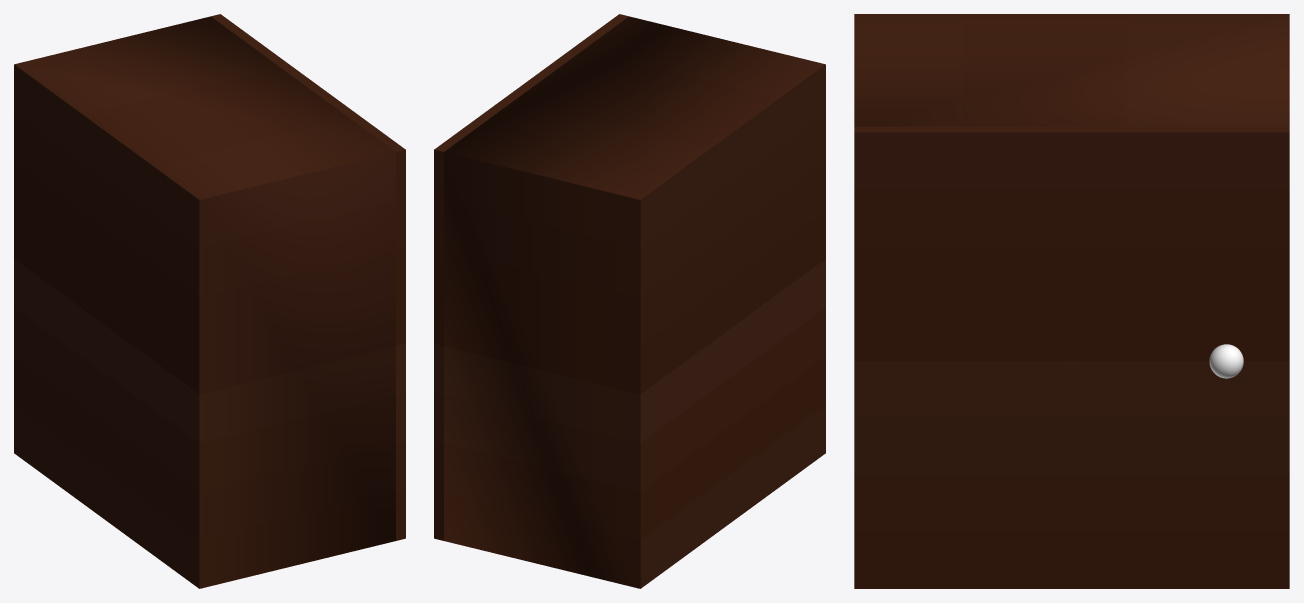
File: large_chest.glb
3 views of the same model, side by side, from view 1: azimuth 30°, elevation 25°; view 2: azimuth 150°, elevation 25°; view 3: azimuth 270°, elevation 25° (orthographic). The views are drawn at different scales.
Visible parts, largest first — view 1: large_chest, large_chest_door; view 2: large_chest, large_chest_door; view 3: large_chest_door, large_chest.
Boxes of the visible parts, x1=… form: large_chest: x1=14, y1=16, x2=395, y2=588; large_chest_door: x1=211, y1=14, x2=405, y2=540; large_chest: x1=444, y1=16, x2=825, y2=588; large_chest_door: x1=434, y1=14, x2=628, y2=540; large_chest_door: x1=854, y1=126, x2=1289, y2=588; large_chest: x1=854, y1=14, x2=1289, y2=126.
Size of the model in its own units: 0.5104 by 0.8482 by 0.7324.
Materials: 2 (1 with a texture image).
